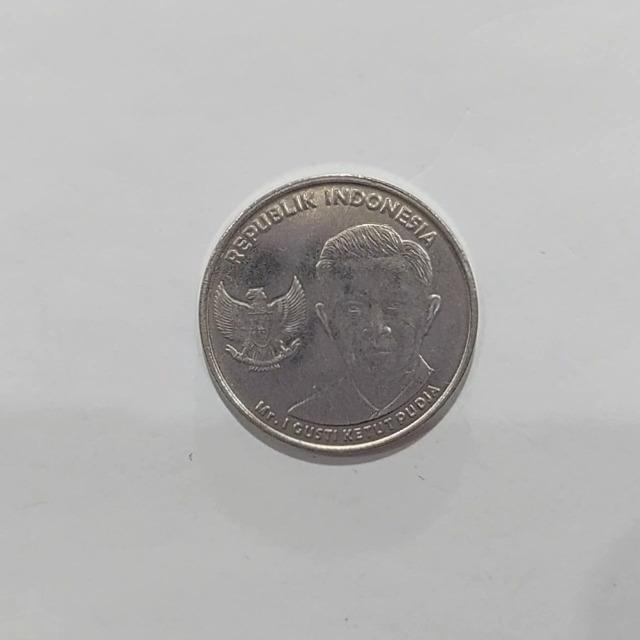Rp100: (197, 171, 479, 462)
